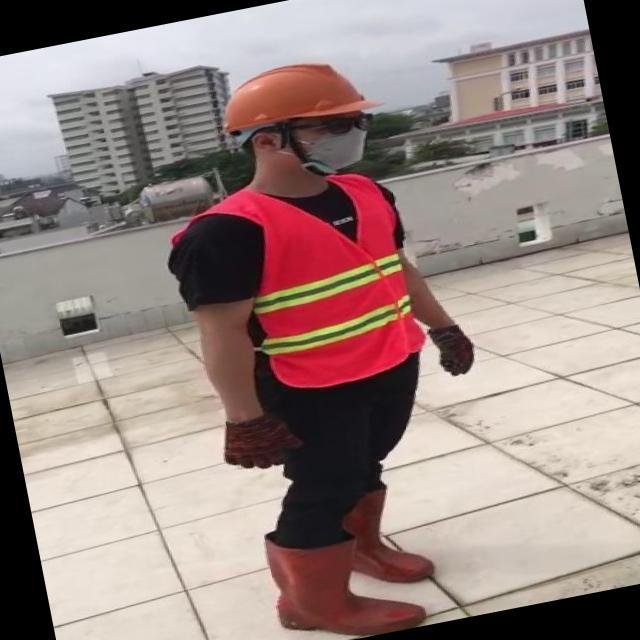Gloves: (215, 407, 306, 476), (427, 320, 481, 381)
Helmet: (206, 48, 375, 141)
Human: (124, 36, 524, 640)
Safety Boot: (262, 508, 428, 640), (337, 485, 436, 594)
Safety Vest: (223, 166, 431, 399)
